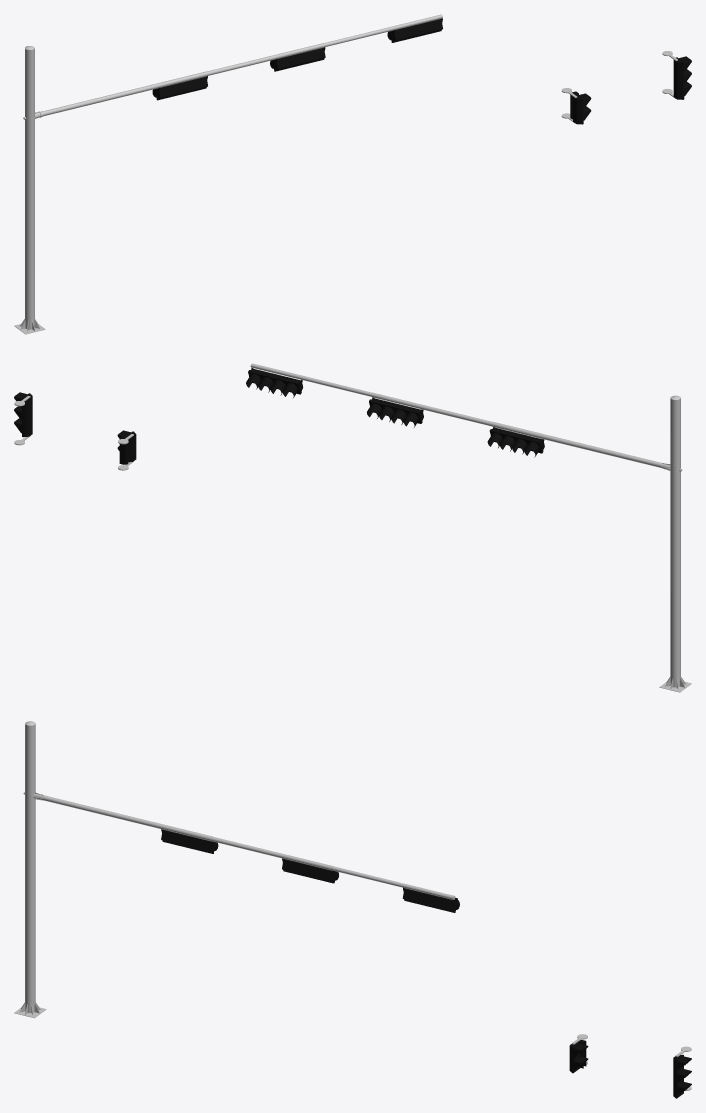
Rendered from TrafficLightAnim.fbx.
3 views of the same model, one above another, from view 1: azimuth 30°, elevation 25°; view 2: azimuth 150°, elevation 25°; view 3: azimuth 330°, elevation 25° (orthographic). The views are drawn at different scales.
Parts seen in each view (by area): view 1: Metal, Black, Cylinder005.0, Cylinder005.002; view 2: Metal, Black, Cylinder005.0, Cylinder005.002; view 3: Metal, Black, Cylinder005.0, Cylinder005.002.
Part boxes in pixels (x1,y1,x2,y2): Metal: [14, 14, 442, 334]; Black: [152, 18, 442, 100]; Cylinder005.0: [662, 51, 691, 99]; Cylinder005.002: [561, 88, 591, 124]; Metal: [250, 363, 691, 692]; Black: [246, 368, 544, 457]; Cylinder005.0: [14, 392, 32, 445]; Cylinder005.002: [117, 430, 136, 470]; Metal: [14, 721, 455, 1018]; Black: [161, 829, 459, 912]; Cylinder005.0: [673, 1046, 691, 1098]; Cylinder005.002: [569, 1034, 588, 1073].
Bounding box in the file's own units: 19.66 × 8 × 1.07.
